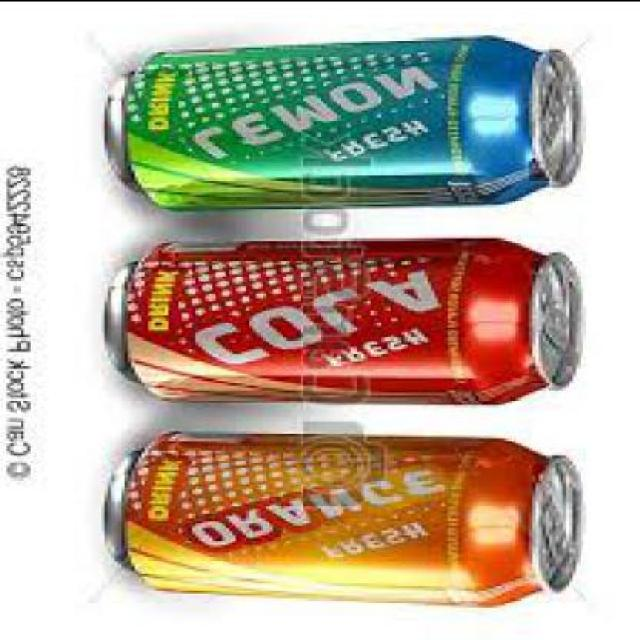metal: (109, 431, 583, 609), (108, 37, 586, 212), (111, 237, 589, 406)
